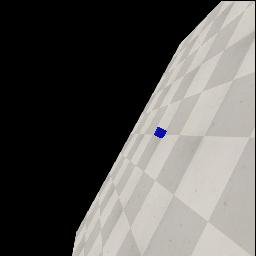box: (154, 127, 167, 138)
